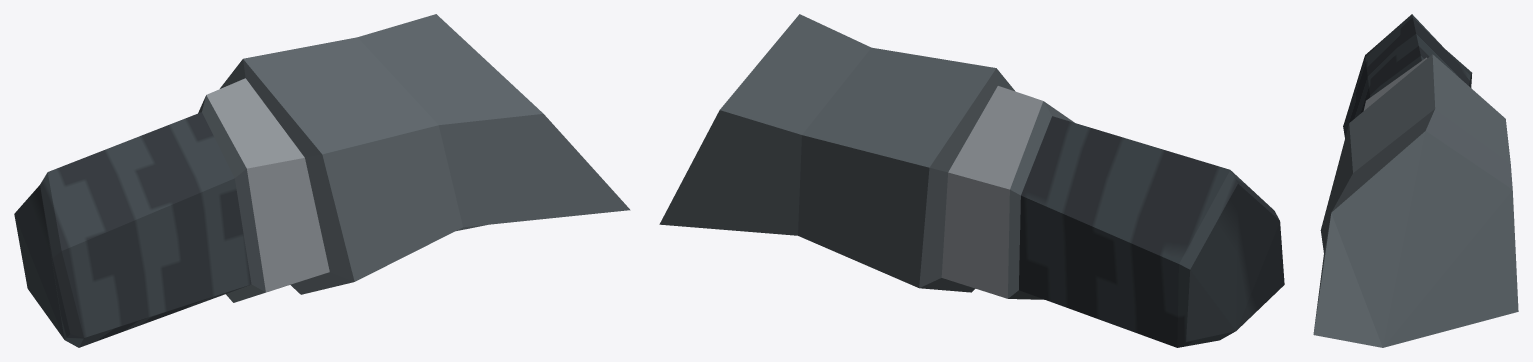
File: Chr_ArmUpperRight_Female_05_Static.fbx
3 views of the same model, side by side, from view 1: azimuth 30°, elevation 25°; view 2: azimuth 150°, elevation 25°; view 3: azimuth 270°, elevation 25° (orthographic). The views are drawn at different scales.
Visible parts, largest first — view 1: Chr_ArmUpperRight_Female_05_Static; view 2: Chr_ArmUpperRight_Female_05_Static; view 3: Chr_ArmUpperRight_Female_05_Static.
Part boxes in pixels (<box>): Chr_ArmUpperRight_Female_05_Static: <box>14,14,630,347</box>; Chr_ArmUpperRight_Female_05_Static: <box>659,14,1284,347</box>; Chr_ArmUpperRight_Female_05_Static: <box>1313,14,1518,347</box>.
Bounding box in the file's own units: 0.3535 × 0.1455 × 0.136.
